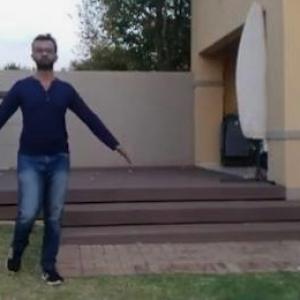land: (0, 41, 125, 280)
